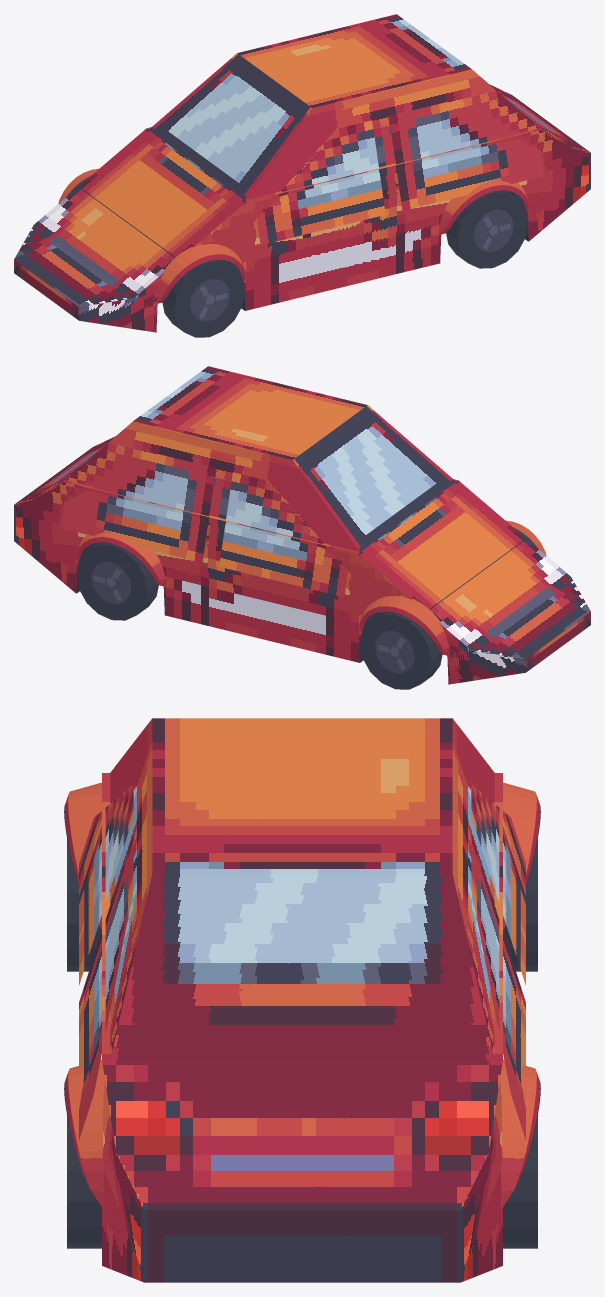
File: compact-5-v1.glb
3 views of the same model, one above another, from view 1: azimuth 30°, elevation 25°; view 2: azimuth 150°, elevation 25°; view 3: azimuth 270°, elevation 25° (orthographic). The views are drawn at different scales.
Visible parts, largest first — view 1: Body · left, Hood, Windshield, Roof, Window and frame · left · rear, Cabin · left, Window and frame · left · front, Tire · -17 · -1, Tire · 17 · -1, Raised fender · left · -17, Raised fender · left · 17, Hub · 17 · -1 (+4 smaller); view 2: Body · right, Hood, Windshield, Roof, Window and frame · right · rear, Cabin · right, Window and frame · right · front, Tire · -17 · 1, Tire · 17 · 1, Raised fender · right · -17, Raised fender · right · 17, Hub · 17 · 1 (+4 smaller); view 3: Rear windshield, Rear hatch, Roof, Rear fascia, Cabin · left, Cabin · right, Window and frame · left · rear, Window and frame · right · rear, Body · left, Body · right, Window and frame · left · front, Window and frame · right · front (+9 smaller).
Boxes of the visible parts, x1,y1,x2,y2 form: Body · left: (79, 129, 590, 332); Hood: (14, 128, 246, 306); Windshield: (149, 53, 311, 199); Roof: (237, 14, 471, 107); Window and frame · left · rear: (389, 102, 543, 210); Cabin · left: (245, 69, 539, 199); Window and frame · left · front: (257, 120, 385, 244); Tire · -17 · -1: (162, 260, 244, 337); Tire · 17 · -1: (446, 191, 528, 268); Raised fender · left · -17: (153, 243, 246, 304); Raised fender · left · 17: (439, 180, 530, 234); Hub · 17 · -1: (473, 209, 513, 252); Body · right: (14, 481, 525, 684); Hood: (358, 480, 590, 658); Windshield: (293, 405, 455, 551); Roof: (133, 366, 367, 459); Window and frame · right · rear: (61, 454, 215, 562); Cabin · right: (65, 421, 359, 551); Window and frame · right · front: (219, 472, 347, 596); Tire · -17 · 1: (360, 612, 442, 689); Tire · 17 · 1: (76, 543, 158, 620); Raised fender · right · -17: (358, 595, 449, 655); Raised fender · right · 17: (74, 532, 165, 586); Hub · 17 · 1: (91, 561, 131, 604); Rear windshield: (110, 874, 494, 1060); Rear hatch: (102, 1060, 502, 1209); Roof: (152, 718, 452, 874); Rear fascia: (144, 1210, 460, 1282); Cabin · left: (110, 718, 152, 1058); Cabin · right: (452, 718, 494, 1058); Window and frame · left · rear: (79, 833, 133, 1139); Window and frame · right · rear: (471, 833, 525, 1139); Body · left: (102, 1061, 144, 1282); Body · right: (460, 1061, 502, 1282); Window and frame · left · front: (79, 784, 133, 985); Window and frame · right · front: (471, 784, 525, 985).
Size of the model in its own units: 58.2 by 20.2 by 23.8.
1 material, 1 textured.
